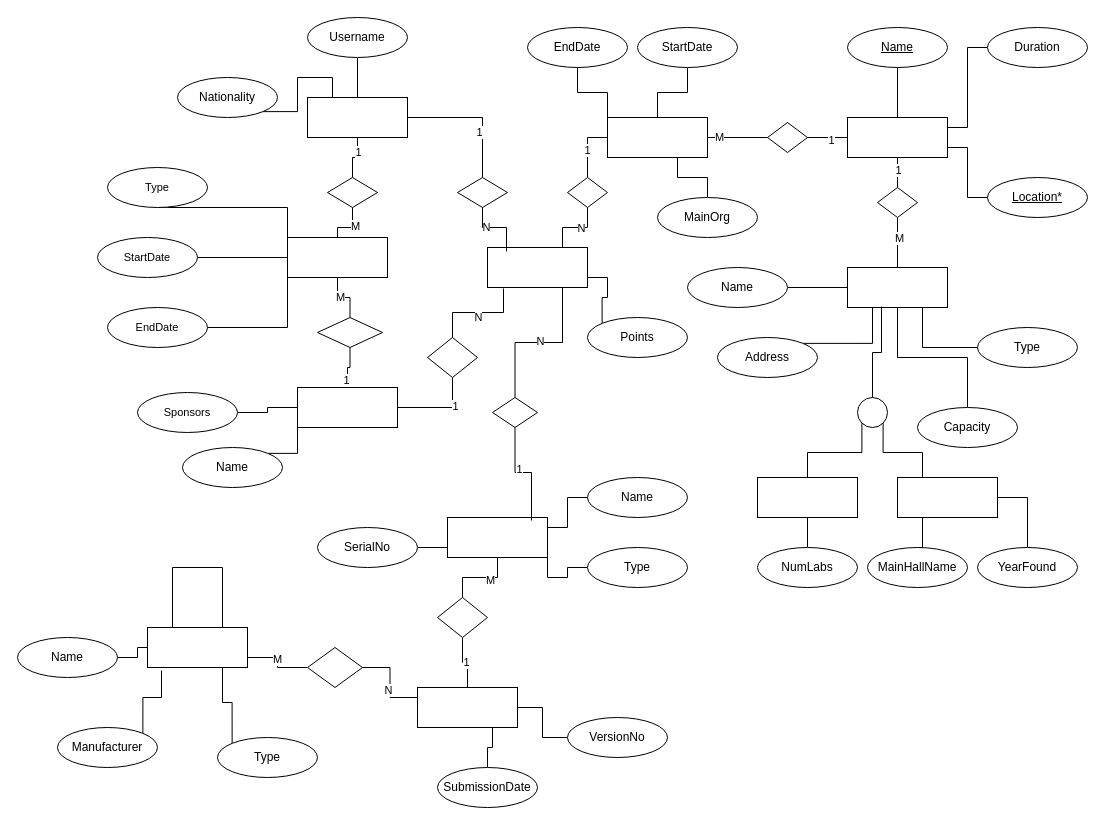
The diagram is 1105 pixels wide and 825 high, and some of its shapes have lost their labels. The box of each missing label's shape, as (x1, y1, x2, y2) in pixels:
Collaboration: (286, 236, 388, 278)
Company: (296, 386, 398, 428)
Component: (146, 626, 248, 668)
Engineer: (306, 96, 408, 138)
Hackathon: (846, 116, 948, 158)
HeldHackathon: (606, 116, 708, 158)
Location: (846, 266, 948, 308)
Robot: (446, 516, 548, 558)
RobotPresentation: (486, 246, 588, 288)
RobotVersion: (416, 686, 518, 728)
TechParkLocation: (896, 476, 998, 518)
UniversityLocation: (756, 476, 858, 518)
